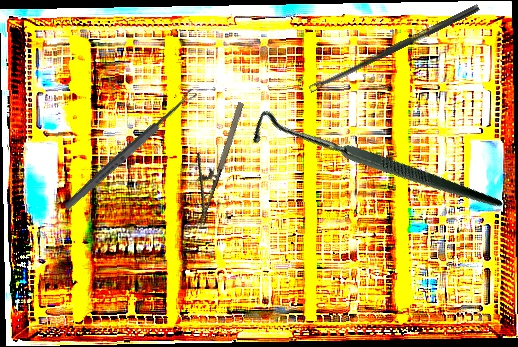Hook Surgical: (242, 34, 504, 301)
Needle Holder: (175, 94, 248, 226)
Surgical Spoon: (62, 87, 199, 212), (307, 3, 481, 93)
